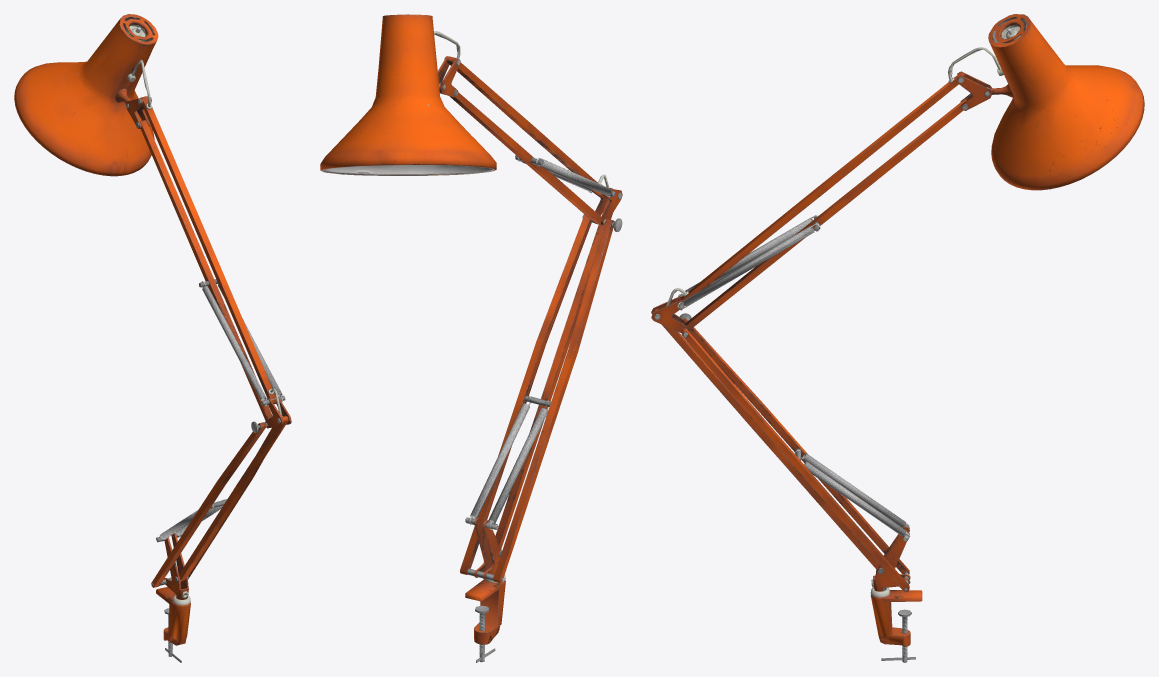
File: desk_lamp_arm_01.glb
3 renders of one model, left to right at view 1: azimuth 30°, elevation 25°; view 2: azimuth 150°, elevation 25°; view 3: azimuth 270°, elevation 25°, orthographic. The views are drawn at different scales.
Visible parts, largest first — view 1: desk_lamp_arm_01; view 2: desk_lamp_arm_01; view 3: desk_lamp_arm_01.
Part boxes in pixels (box(x1,y1,x2,y2)): desk_lamp_arm_01: box(14, 14, 291, 662); desk_lamp_arm_01: box(320, 14, 622, 662); desk_lamp_arm_01: box(651, 14, 1144, 662).
Size of the model in its own units: 0.2017 by 0.8926 by 0.6139.
Materials: 2 (2 with a texture image).
